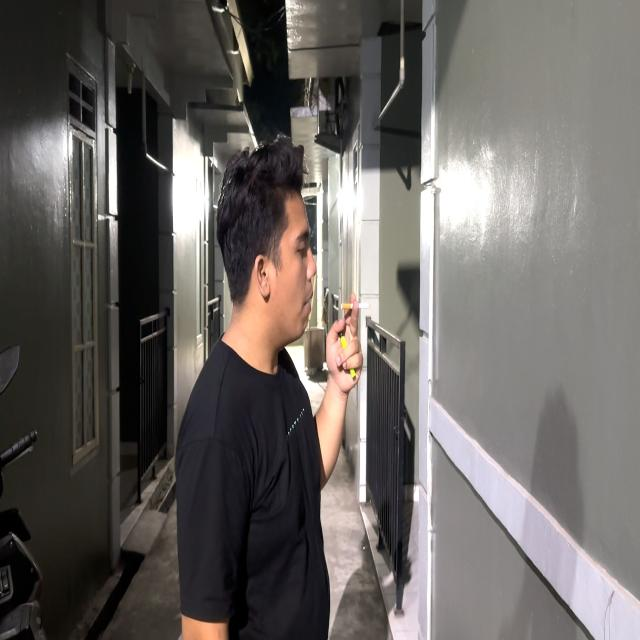cigarette: (337, 296, 378, 318)
smoking: (214, 123, 379, 494)
